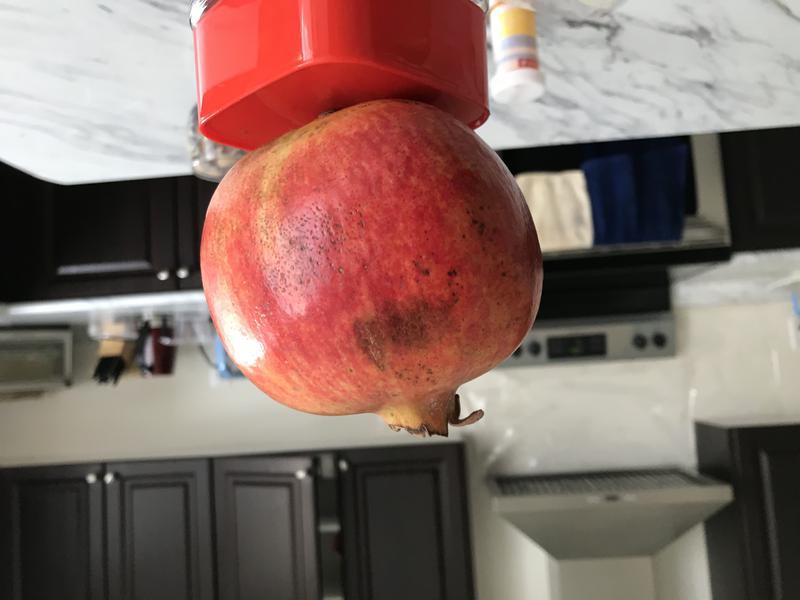pomegranate: (183, 88, 550, 454)
